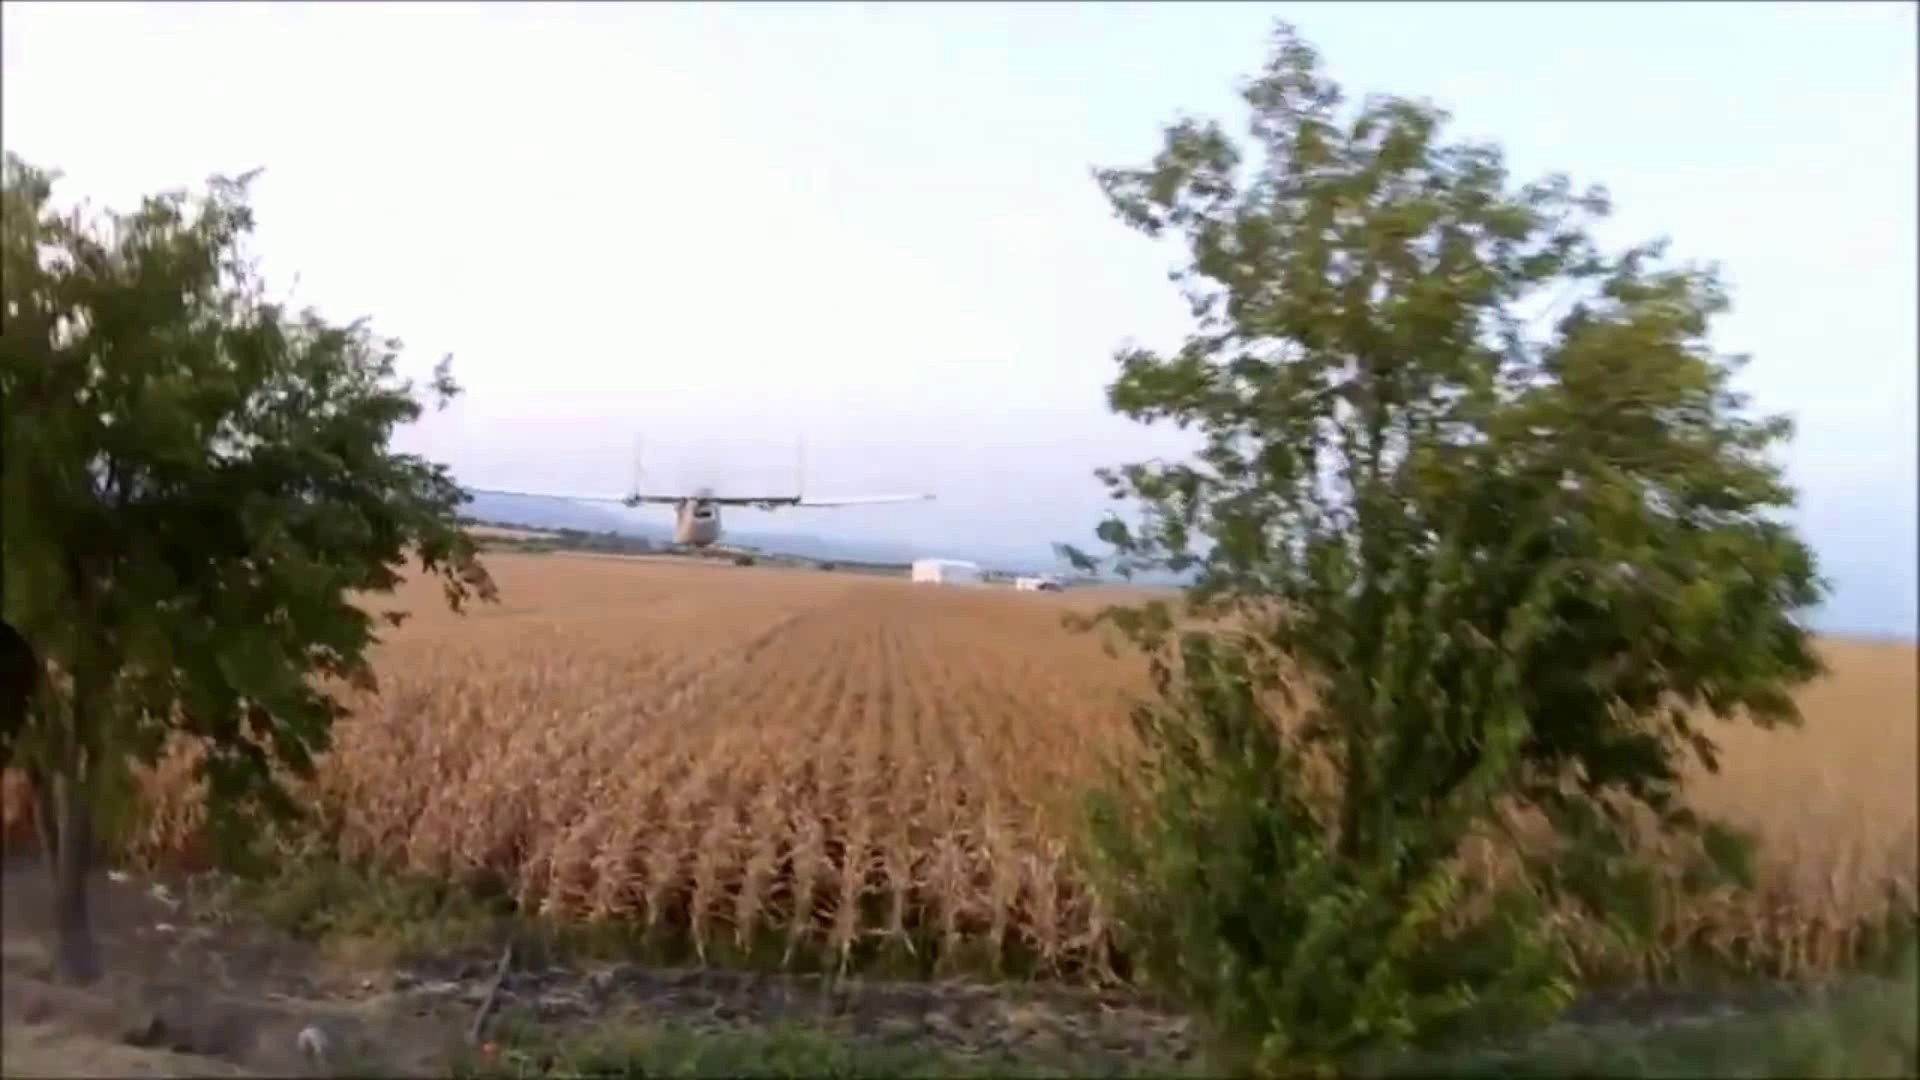airplane: (462, 481, 938, 572)
